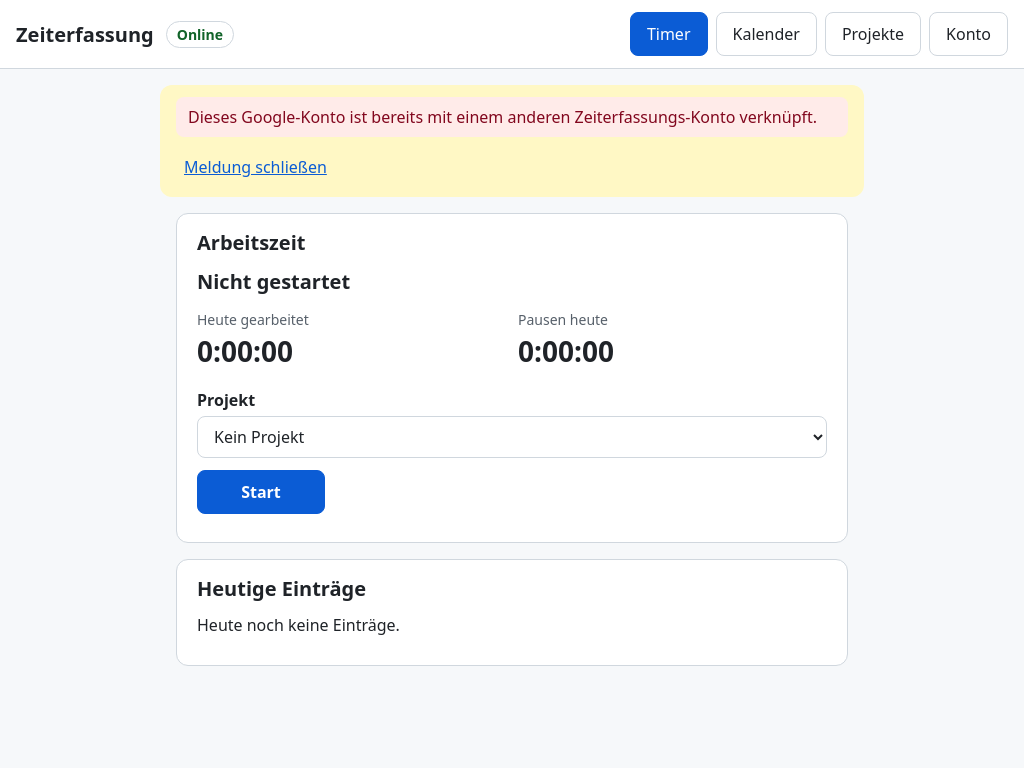
Test: App: redirect error while signed in (review fix — Shell-level notice) › shows the mapped message when a signed-in user's completeRedirect rejects, and "Meldung schließen" removes it
Expected: the navigation bar named "Hauptnavigation" is shown, [630,12,1008,56]
Expected: the 2nd message shows "Dieses Google-Konto ist bereits mit einem anderen Zeiterfassungs-Konto verknüpft.", [188,106,817,128]
Click the button "Meldung schließen": [255, 167] box [176,149,335,185]
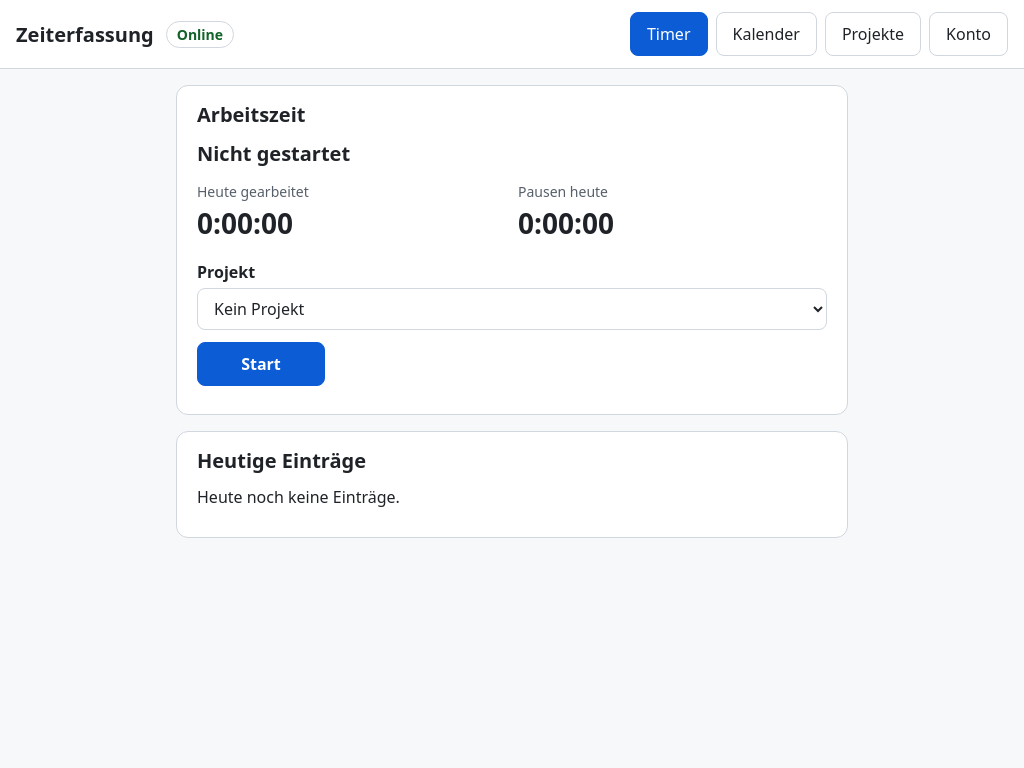
Expected: the text "Dieses Google-Konto ist bereits mit einem anderen Zeiterfassungs-Konto verknüpft." is gone
